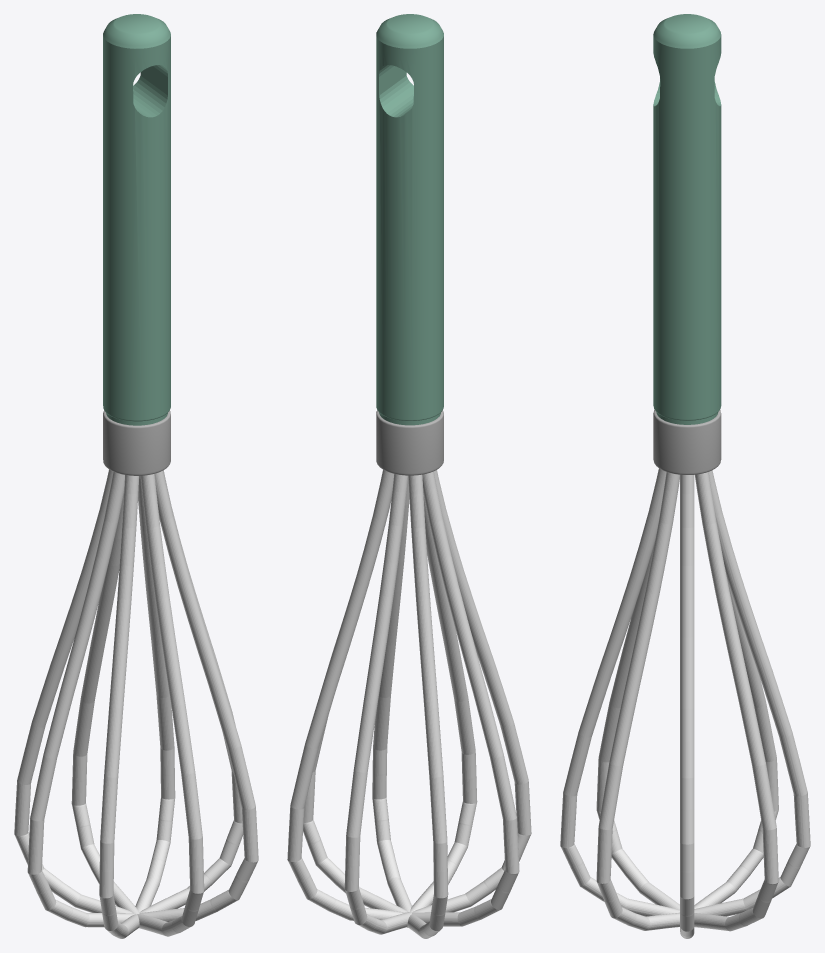
The model's file is kocokan.fbx.
3 views of the same model, side by side, from view 1: azimuth 30°, elevation 25°; view 2: azimuth 150°, elevation 25°; view 3: azimuth 270°, elevation 25° (orthographic).
Parts seen in each view (by area): view 1: Cylinder.005, Cylinder.003, Cylinder.002, Cylinder.004, Cylinder.001; view 2: Cylinder.005, Cylinder.004, Cylinder.002, Cylinder.003, Cylinder.001; view 3: Cylinder.005, Cylinder.002, Cylinder.004, Cylinder.003, Cylinder.001.
Part boxes in pixels (bbox=[...]): Cylinder.005: bbox=[103, 14, 170, 475]; Cylinder.003: bbox=[14, 469, 258, 921]; Cylinder.002: bbox=[71, 474, 204, 936]; Cylinder.004: bbox=[99, 475, 175, 938]; Cylinder.001: bbox=[27, 470, 243, 927]; Cylinder.005: bbox=[376, 14, 443, 475]; Cylinder.004: bbox=[287, 470, 531, 920]; Cylinder.002: bbox=[344, 474, 477, 934]; Cylinder.003: bbox=[372, 474, 448, 938]; Cylinder.001: bbox=[303, 471, 519, 926]; Cylinder.005: bbox=[653, 14, 721, 474]; Cylinder.002: bbox=[560, 468, 810, 916]; Cylinder.004: bbox=[596, 472, 778, 931]; Cylinder.003: bbox=[596, 472, 778, 930]; Cylinder.001: bbox=[680, 475, 694, 938].
Size of the model in its own units: 71.41 by 282 by 70.97.
Materials: 1 (1 with a texture image).
